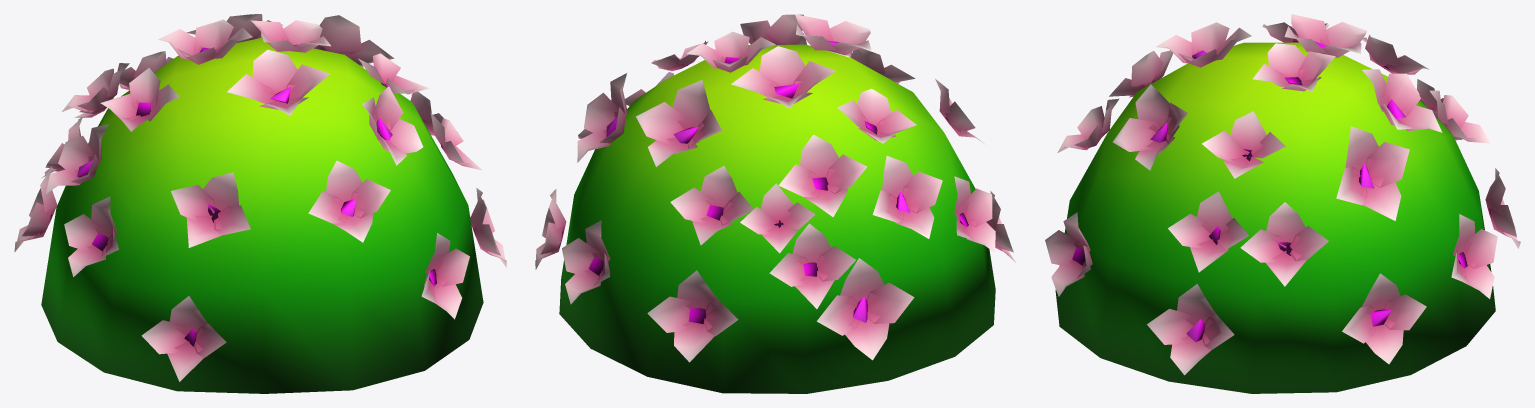
Rendered from Bush1_LOD2.fbx.
3 renders of one model, left to right at view 1: azimuth 30°, elevation 25°; view 2: azimuth 150°, elevation 25°; view 3: azimuth 270°, elevation 25°, orthographic.
Visible parts, largest first — view 1: Bush1; view 2: Bush1; view 3: Bush1.
Part boxes in pixels (x1,y1,x2,y2): Bush1: (14, 14, 506, 393); Bush1: (535, 14, 1015, 393); Bush1: (1045, 14, 1520, 393).
Size of the model in its own units: 118 by 73.46 by 121.
1 material, 1 textured.
